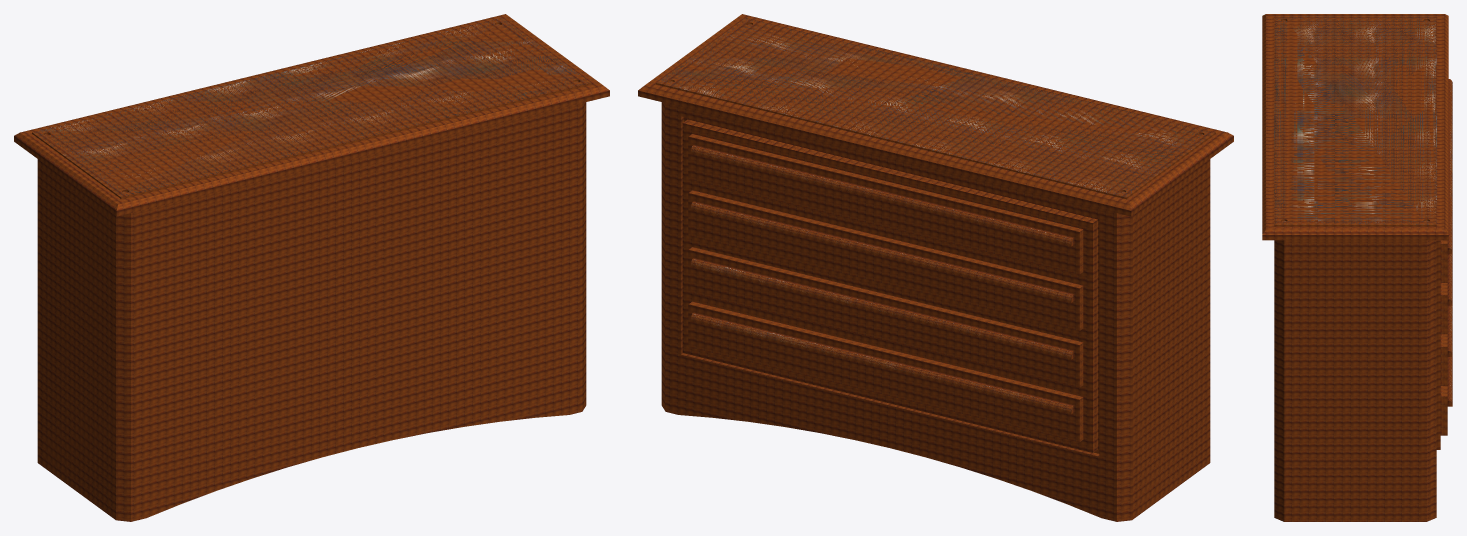
The picture shows the model from 3 angles, left to right: view 1: azimuth 30°, elevation 25°; view 2: azimuth 150°, elevation 25°; view 3: azimuth 270°, elevation 25°; orthographic projection. The views are drawn at different scales.
Visible parts, largest first — view 1: mesh4_mesh4-geometry; view 2: mesh4_mesh4-geometry, mesh1_mesh1-geometry; view 3: mesh4_mesh4-geometry, mesh1_mesh1-geometry.
Part boxes in pixels (left/top/right/bottom): mesh4_mesh4-geometry: left=14, top=14, right=609, bottom=521; mesh4_mesh4-geometry: left=638, top=14, right=1233, bottom=521; mesh1_mesh1-geometry: left=688, top=134, right=1083, bottom=442; mesh4_mesh4-geometry: left=1262, top=14, right=1448, bottom=521; mesh1_mesh1-geometry: left=1440, top=79, right=1452, bottom=435.
Size of the model in its own units: 0.807 by 0.5105 by 0.2969.
